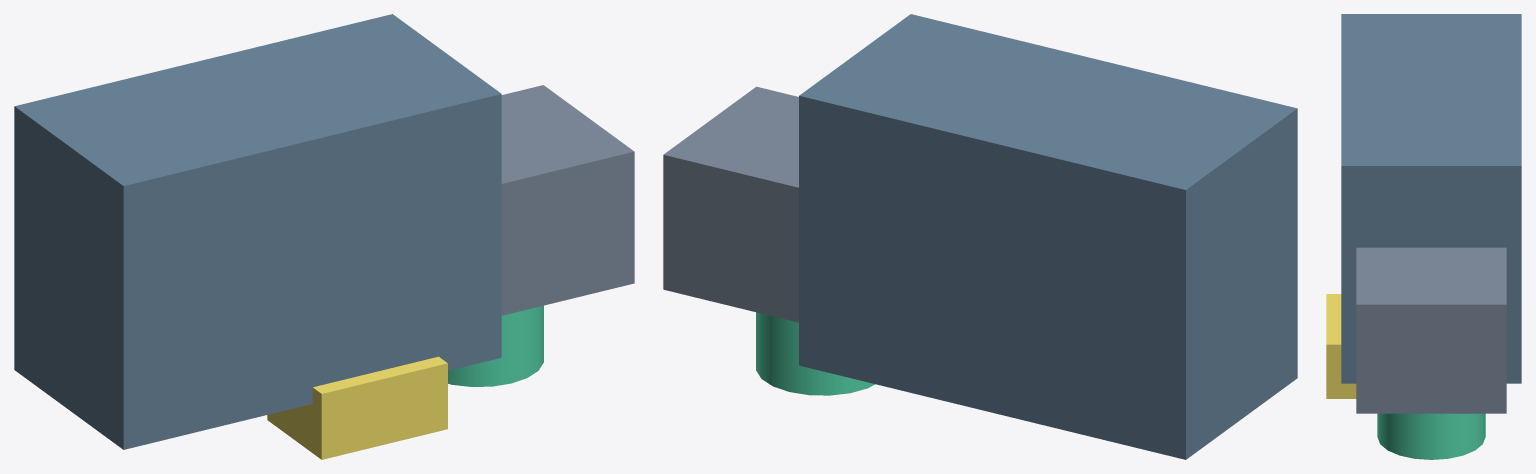
The model's file is rlc_transient_response.glb.
3 views of the same model, side by side, from view 1: azimuth 30°, elevation 25°; view 2: azimuth 150°, elevation 25°; view 3: azimuth 270°, elevation 25° (orthographic). The views are drawn at different scales.
Visible parts, largest first — view 1: OscilloscopeCRTDisplayScreen, DCStepFunctionPulseGenerator, PrecisionDecadeResistorBox, DampedResonantRLCTank; view 2: OscilloscopeCRTDisplayScreen, DCStepFunctionPulseGenerator, DampedResonantRLCTank; view 3: OscilloscopeCRTDisplayScreen, DCStepFunctionPulseGenerator, DampedResonantRLCTank, PrecisionDecadeResistorBox.
Part boxes in pixels (x1,y1,x2,y2): OscilloscopeCRTDisplayScreen: (14, 14, 501, 449); DCStepFunctionPulseGenerator: (501, 85, 634, 315); PrecisionDecadeResistorBox: (267, 356, 447, 459); DampedResonantRLCTank: (448, 305, 543, 386); OscilloscopeCRTDisplayScreen: (799, 14, 1297, 459); DCStepFunctionPulseGenerator: (663, 86, 798, 322); DampedResonantRLCTank: (756, 312, 874, 395); OscilloscopeCRTDisplayScreen: (1341, 14, 1521, 383); DCStepFunctionPulseGenerator: (1356, 247, 1506, 413); DampedResonantRLCTank: (1377, 413, 1485, 459); PrecisionDecadeResistorBox: (1326, 294, 1356, 398).
Bounding box in the file's own units: 1.65 × 0.95 × 0.65.
